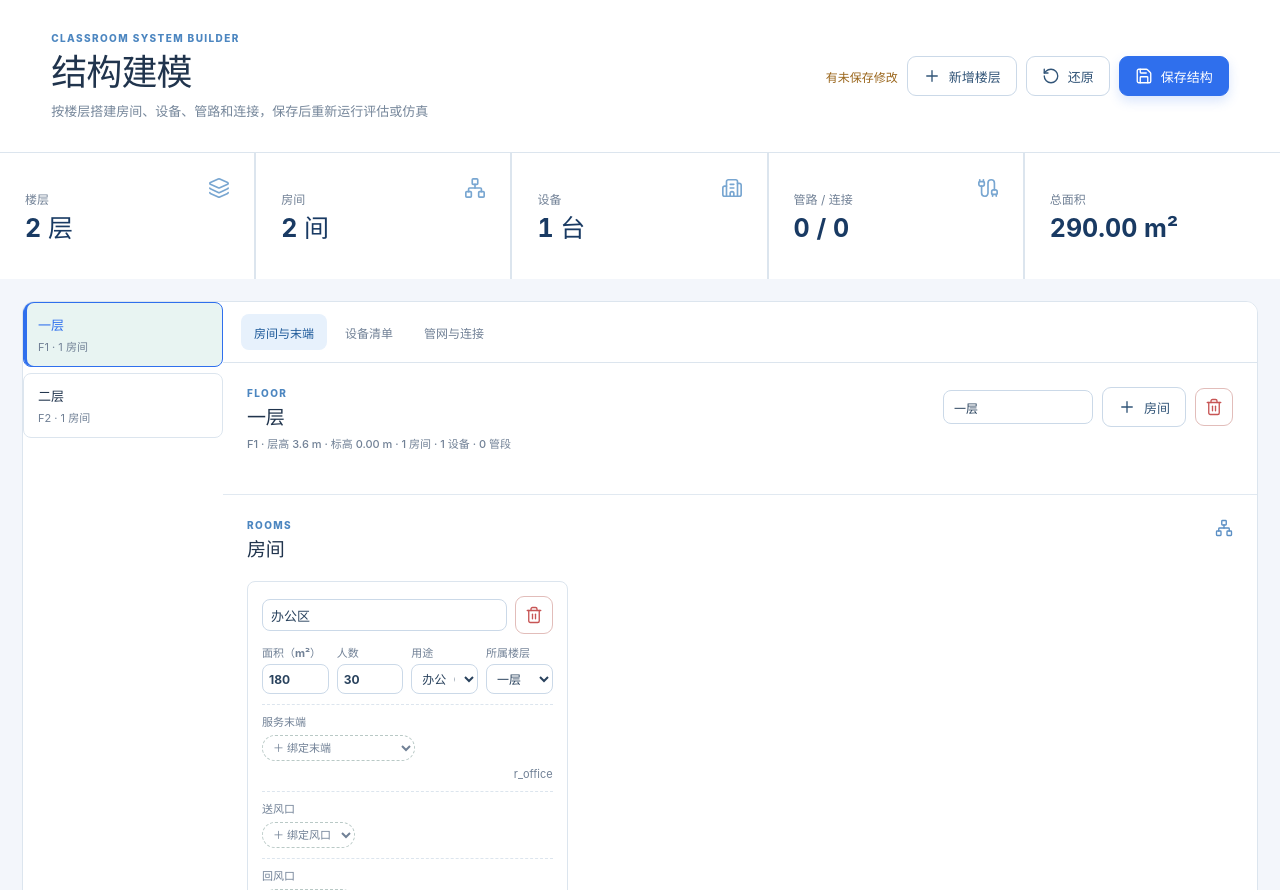
BuildingView floor navigation › binds a terminal via the add-terminal dropdown
This screenshot has width=1280, height=890.
Step 1. Select "组合式空调机组 · ahu_f1" in the dropdown named "办公区 添加末端" → (338, 748), box [262,735,415,761]
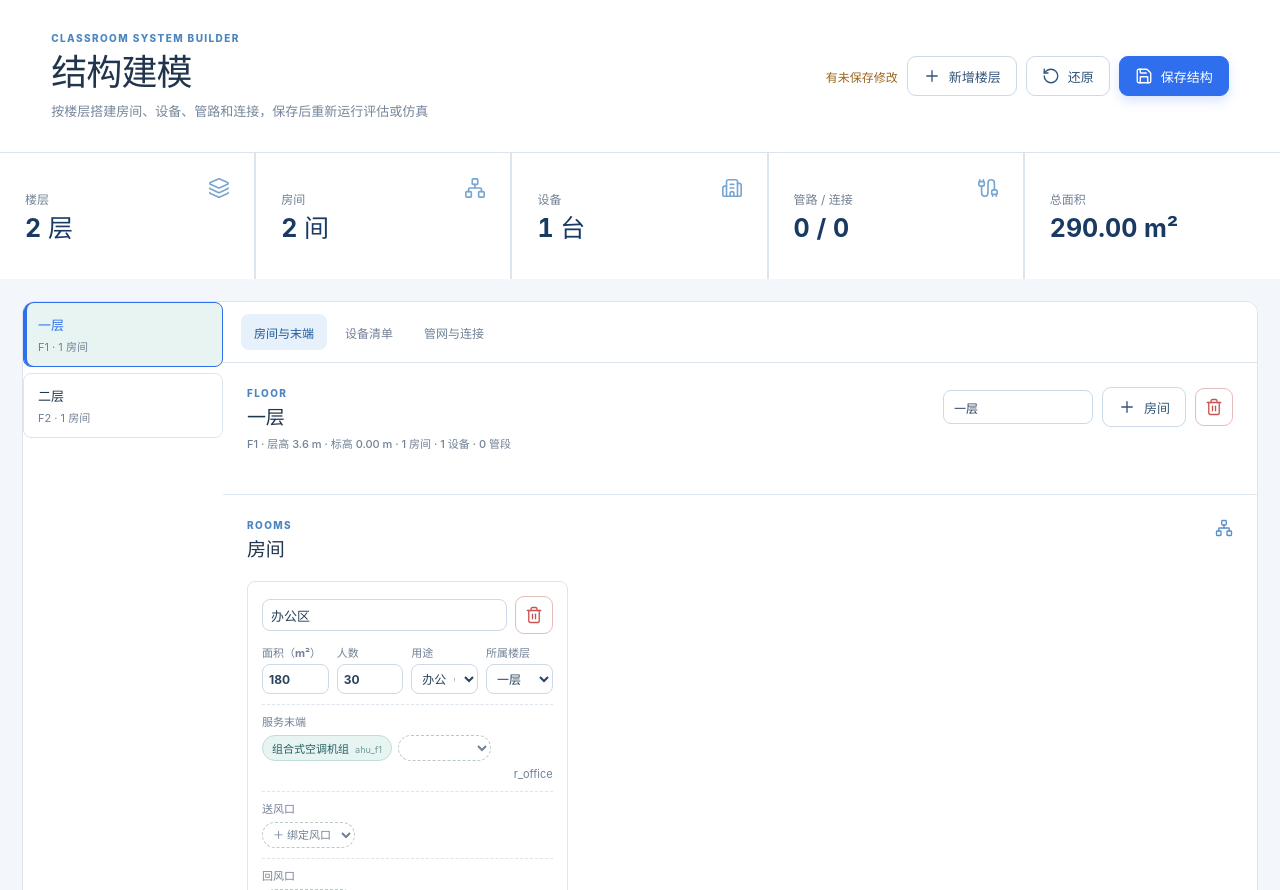
expect the button with class "terminal-chip" shows "ahu_f1": met, box [262,735,392,761]
